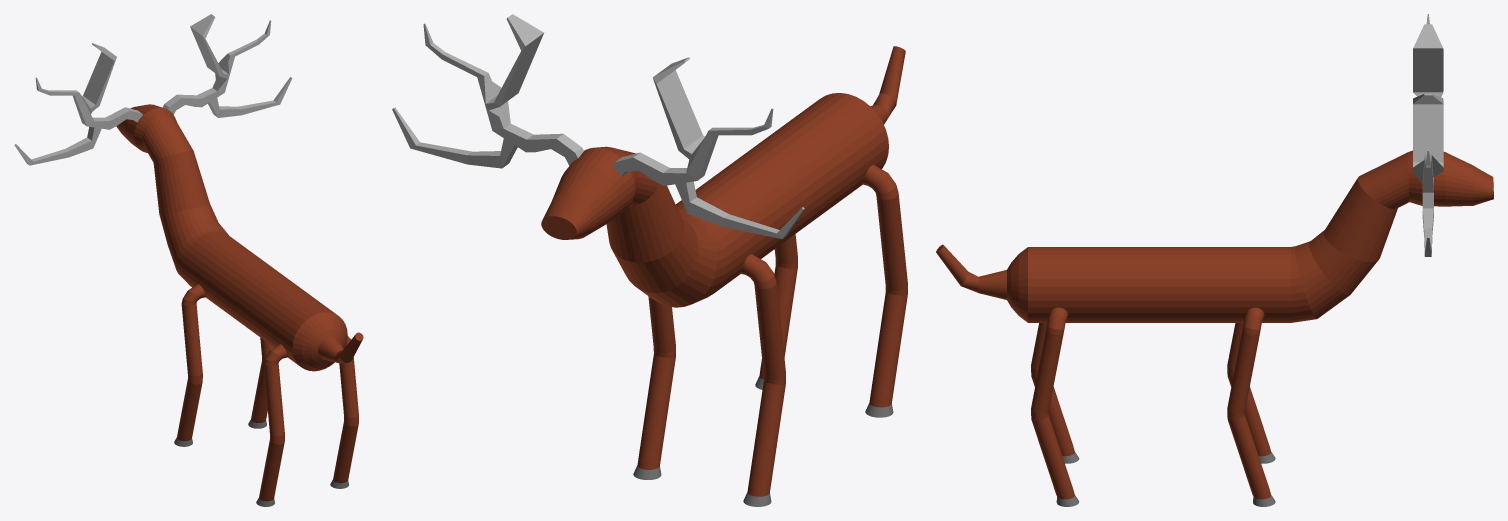
File: moose.fbx
The picture shows the model from 3 angles, left to right: view 1: azimuth 30°, elevation 25°; view 2: azimuth 150°, elevation 25°; view 3: azimuth 270°, elevation 25°; orthographic projection. The views are drawn at different scales.
Parts seen in each view (by area): view 1: Cylinder.008, Cube.001, Cube, Cylinder.006, Cylinder.004, Cylinder, Cylinder.002; view 2: Cylinder.008, Cube.001, Cube, Cylinder.004, Cylinder.006, Cylinder.002, Cylinder; view 3: Cylinder.008, Cylinder.002, Cylinder, Cube, Cube.001, Cylinder.006, Cylinder.004.
Boxes of the visible parts, x1=… form: Cylinder.008: x1=116, y1=104, x2=363, y2=371; Cube.001: x1=14, y1=43, x2=142, y2=165; Cube: x1=162, y1=14, x2=292, y2=117; Cylinder.006: x1=174, y1=284, x2=206, y2=446; Cylinder.004: x1=256, y1=344, x2=288, y2=506; Cylinder: x1=330, y1=336, x2=358, y2=488; Cylinder.002: x1=248, y1=337, x2=273, y2=428; Cylinder.008: x1=541, y1=46, x2=905, y2=307; Cube.001: x1=612, y1=57, x2=804, y2=239; Cube: x1=392, y1=14, x2=583, y2=168; Cylinder.004: x1=861, y1=165, x2=907, y2=417; Cylinder.006: x1=739, y1=254, x2=785, y2=506; Cylinder.002: x1=633, y1=296, x2=675, y2=479; Cylinder: x1=755, y1=234, x2=797, y2=389; Cylinder.008: x1=936, y1=150, x2=1493, y2=322; Cylinder.002: x1=1227, y1=307, x2=1275, y2=506; Cylinder: x1=1031, y1=307, x2=1079, y2=506; Cube: x1=1413, y1=94, x2=1443, y2=256; Cube.001: x1=1413, y1=14, x2=1443, y2=97; Cylinder.006: x1=1227, y1=323, x2=1275, y2=463; Cylinder.004: x1=1031, y1=323, x2=1079, y2=463.
Size of the model in its own units: 1970 by 2402 by 2873.
